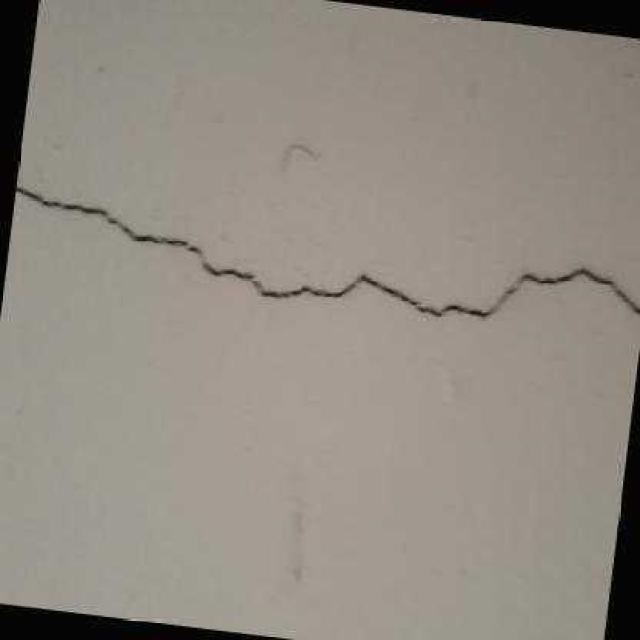D00: (14, 183, 640, 315)
